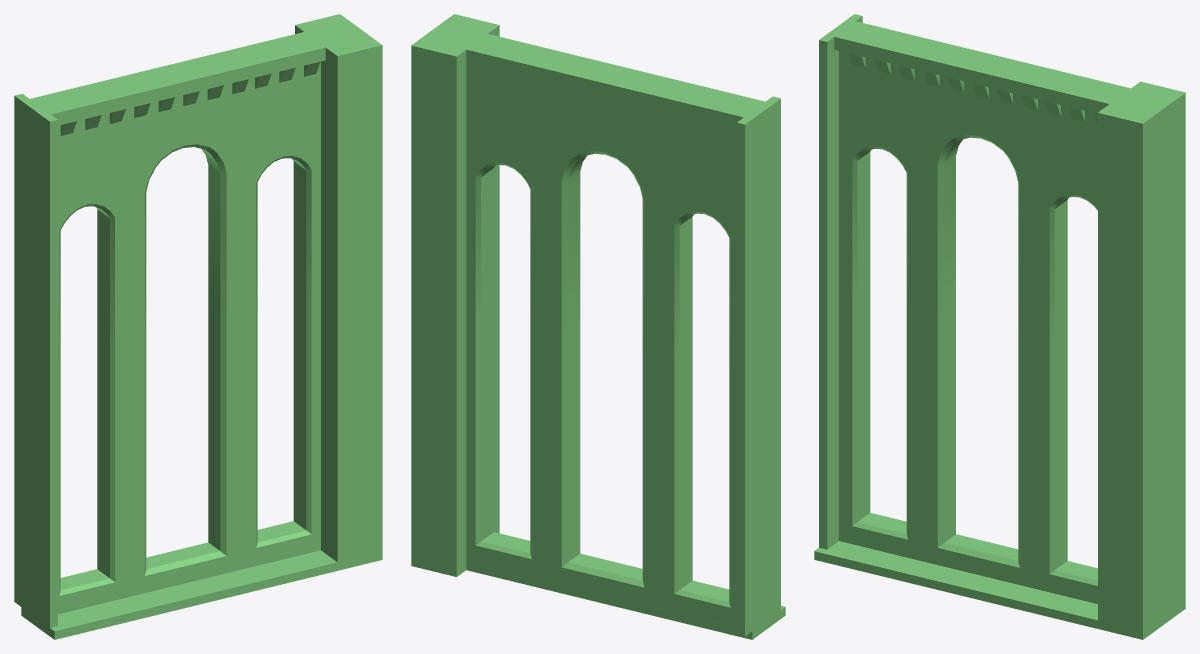
File: Bld3_Wall_Mid_F.fbx
The picture shows the model from 3 angles, left to right: view 1: azimuth 30°, elevation 25°; view 2: azimuth 150°, elevation 25°; view 3: azimuth 330°, elevation 25°; orthographic projection.
Parts seen in each view (by area): view 1: Bld3_Wall_Mid_F; view 2: Bld3_Wall_Mid_F; view 3: Bld3_Wall_Mid_F.
Boxes of the visible parts, x1,y1,x2,y2 form: Bld3_Wall_Mid_F: [14, 14, 382, 639]; Bld3_Wall_Mid_F: [411, 14, 785, 639]; Bld3_Wall_Mid_F: [814, 14, 1185, 639].
Bounding box in the file's own units: 600 × 900 × 135.
